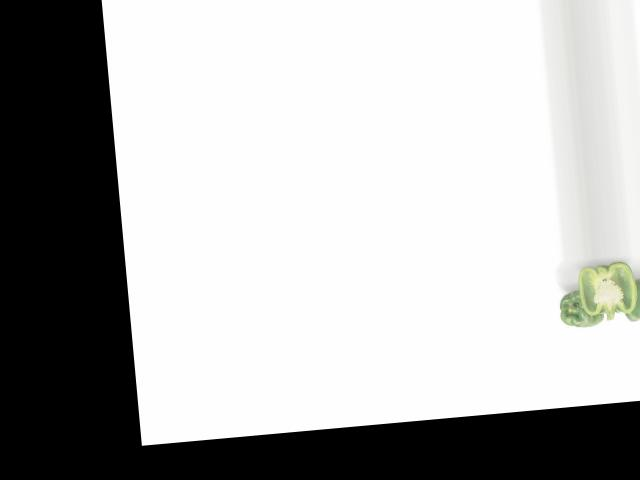bell_pepper: (553, 282, 609, 333)
